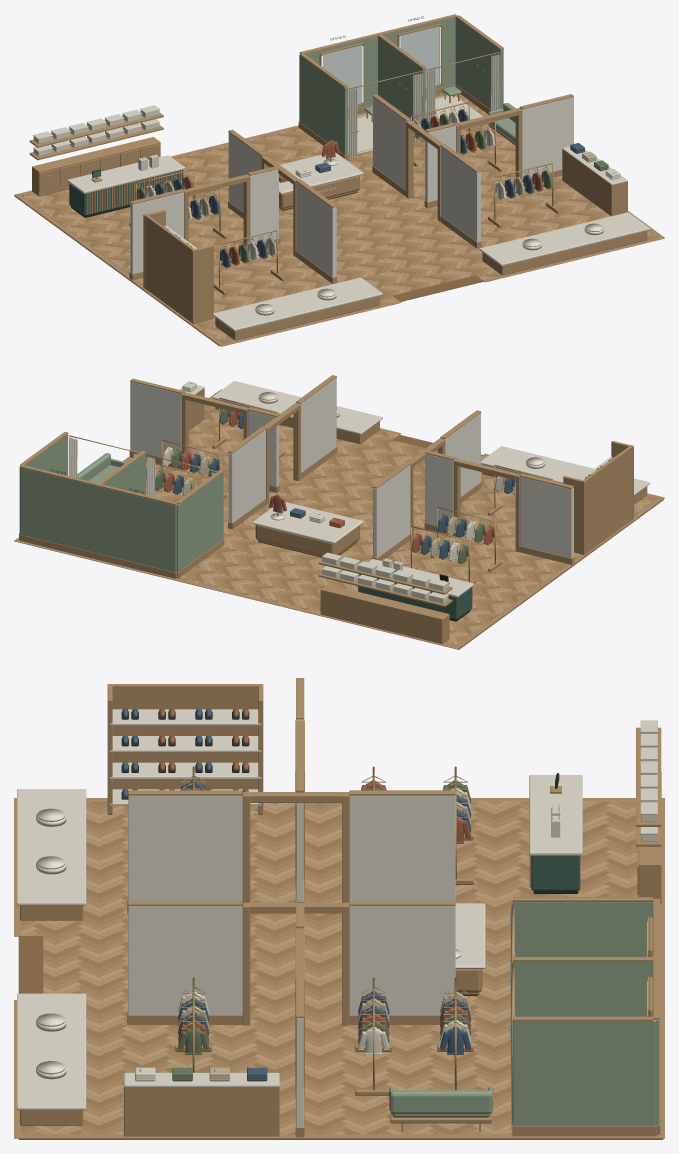
Rendered from clothing-shop.glb.
3 views of the same model, one above another, from view 1: azimuth 30°, elevation 25°; view 2: azimuth 150°, elevation 25°; view 3: azimuth 270°, elevation 25° (orthographic). The views are drawn at different scales.
Parts seen in each view (by area): view 1: Shop white oak, Shop ivory plaster, Shop honed limestone, Shop sage linen, Shop herringbone oak 3, Shop herringbone oak 4, Shop herringbone oak 2, Shop herringbone oak 1, Shop herringbone oak 5, Shop ivory curtain, Shop oak end grain, Shop brushed brass (+6 smaller); view 2: Shop white oak, Shop ivory plaster, Shop sage linen, Shop honed limestone, Shop herringbone oak 3, Shop herringbone oak 5, Shop herringbone oak 1, Shop herringbone oak 2, Shop herringbone oak 4, Shop oak end grain, Shop ivory curtain, Shop brushed brass (+5 smaller); view 3: Shop white oak, Shop ivory plaster, Shop sage linen, Shop honed limestone, Shop herringbone oak 3, Shop herringbone oak 5, Shop herringbone oak 2, Shop herringbone oak 1, Shop herringbone oak 4, Shop oak end grain, Shop display ink knit, Shop ivory curtain (+7 smaller).
Boxes of the visible parts, bbox=[...] form: Shop white oak: bbox=[14, 14, 664, 346]; Shop ivory plaster: bbox=[130, 97, 573, 277]; Shop honed limestone: bbox=[33, 105, 650, 331]; Shop sage linen: bbox=[299, 17, 515, 154]; Shop herringbone oak 3: bbox=[29, 94, 650, 339]; Shop herringbone oak 4: bbox=[24, 95, 657, 342]; Shop herringbone oak 2: bbox=[25, 93, 656, 340]; Shop herringbone oak 1: bbox=[22, 93, 652, 343]; Shop herringbone oak 5: bbox=[23, 94, 610, 339]; Shop ivory curtain: bbox=[33, 54, 620, 261]; Shop oak end grain: bbox=[14, 95, 663, 346]; Shop brushed brass: bbox=[20, 24, 657, 343]; Shop white oak: bbox=[14, 375, 664, 649]; Shop ivory plaster: bbox=[130, 378, 573, 558]; Shop sage linen: bbox=[19, 434, 223, 572]; Shop honed limestone: bbox=[179, 381, 650, 598]; Shop herringbone oak 3: bbox=[146, 406, 650, 643]; Shop herringbone oak 5: bbox=[155, 406, 652, 644]; Shop herringbone oak 1: bbox=[146, 405, 657, 646]; Shop herringbone oak 2: bbox=[146, 406, 649, 643]; Shop herringbone oak 4: bbox=[146, 408, 654, 645]; Shop oak end grain: bbox=[14, 382, 663, 649]; Shop ivory curtain: bbox=[68, 381, 515, 603]; Shop brushed brass: bbox=[57, 397, 657, 647]; Shop white oak: bbox=[14, 678, 664, 1138]; Shop ivory plaster: bbox=[128, 719, 455, 1127]; Shop sage linen: bbox=[389, 902, 659, 1126]; Shop honed limestone: bbox=[17, 709, 657, 1110]; Shop herringbone oak 3: bbox=[22, 801, 637, 1134]; Shop herringbone oak 5: bbox=[21, 801, 637, 1134]; Shop herringbone oak 2: bbox=[21, 801, 638, 1134]; Shop herringbone oak 1: bbox=[21, 801, 637, 1134]; Shop herringbone oak 4: bbox=[21, 801, 637, 1134]; Shop oak end grain: bbox=[18, 802, 663, 1139]; Shop display ink knit: bbox=[122, 708, 471, 1081]; Shop ivory curtain: bbox=[135, 732, 657, 1130].
Size of the model in its own units: 19.72 by 3.41 by 15.9.
